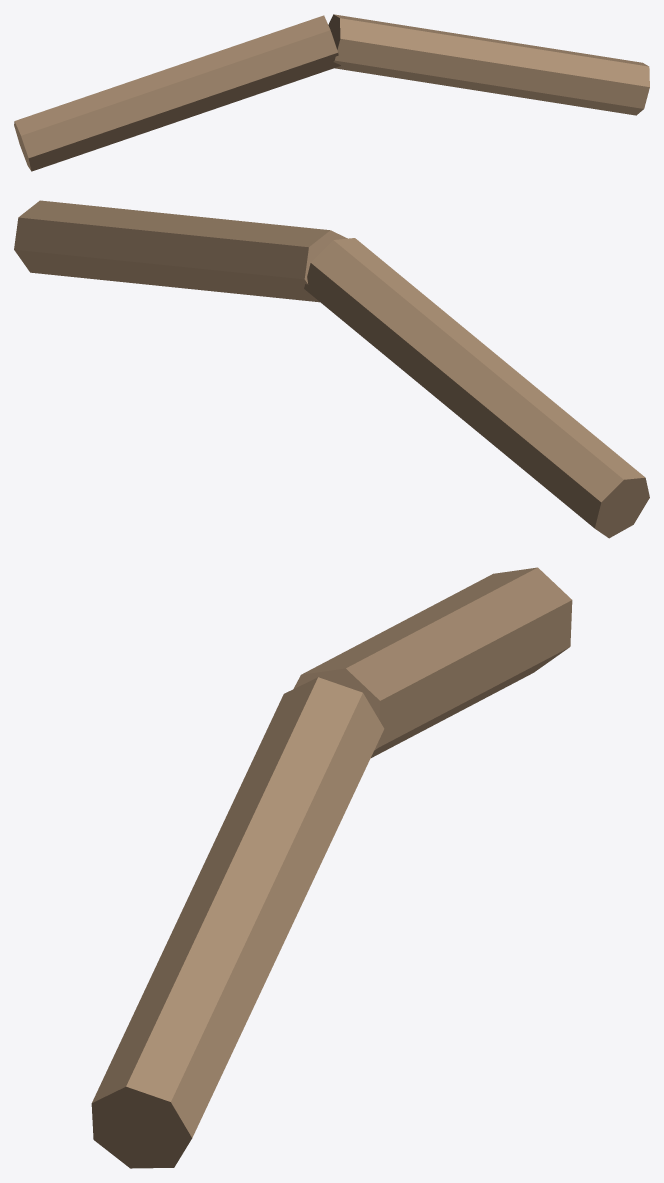
File: exposed_roots.glb
The picture shows the model from 3 angles, top to bottom: view 1: azimuth 30°, elevation 25°; view 2: azimuth 150°, elevation 25°; view 3: azimuth 270°, elevation 25°; orthographic projection. The views are drawn at different scales.
Visible parts, largest first — view 1: Root_-1, Root_1; view 2: Root_-1, Root_1; view 3: Root_1, Root_-1.
Boxes of the visible parts, bbox=[...] form: Root_-1: bbox=[14, 15, 340, 171]; Root_1: bbox=[328, 14, 649, 115]; Root_-1: bbox=[304, 238, 649, 538]; Root_1: bbox=[14, 200, 347, 302]; Root_1: bbox=[91, 677, 384, 1168]; Root_-1: bbox=[293, 567, 572, 757].
Bounding box in the file's own units: 2.28 × 0.4982 × 0.8756.
